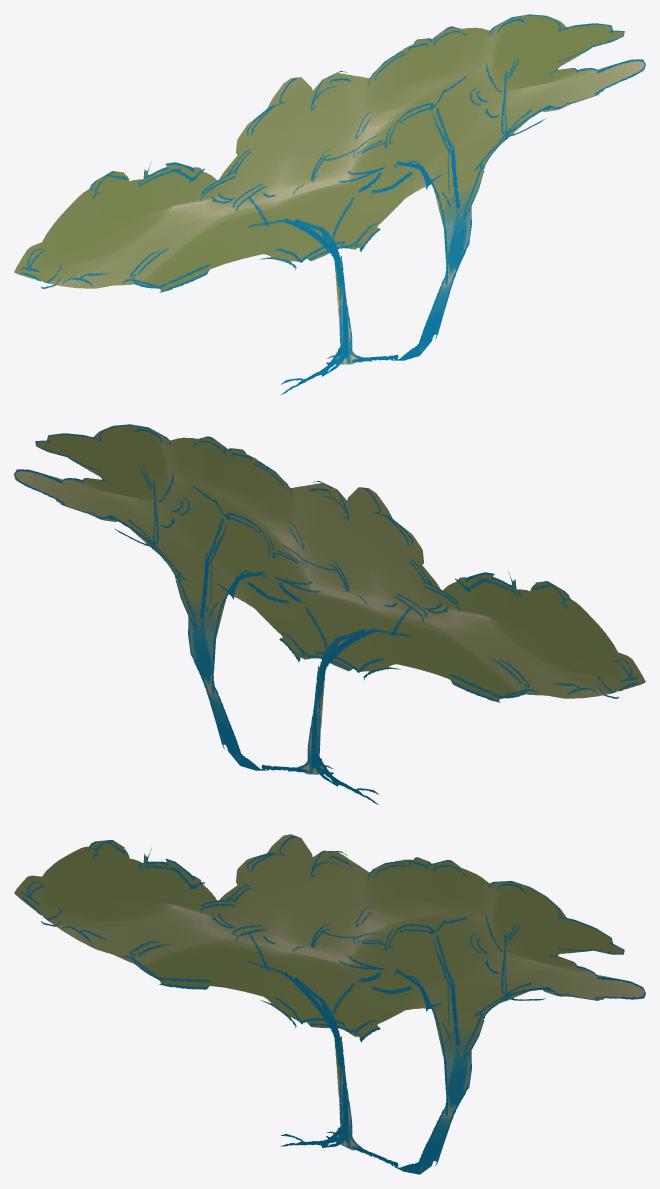
Rendered from tree_2.fbx.
3 views of the same model, one above another, from view 1: azimuth 30°, elevation 25°; view 2: azimuth 150°, elevation 25°; view 3: azimuth 330°, elevation 25° (orthographic).
Visible parts, largest first — view 1: mask6; view 2: mask6; view 3: mask6.
Part boxes in pixels (x1,y1,x2,y2): mask6: (14, 14, 645, 394); mask6: (14, 424, 645, 804); mask6: (14, 834, 645, 1174).
Size of the model in its own units: 19.97 by 9.9 by 9.16e-07.
Materials: 1 (1 with a texture image).
